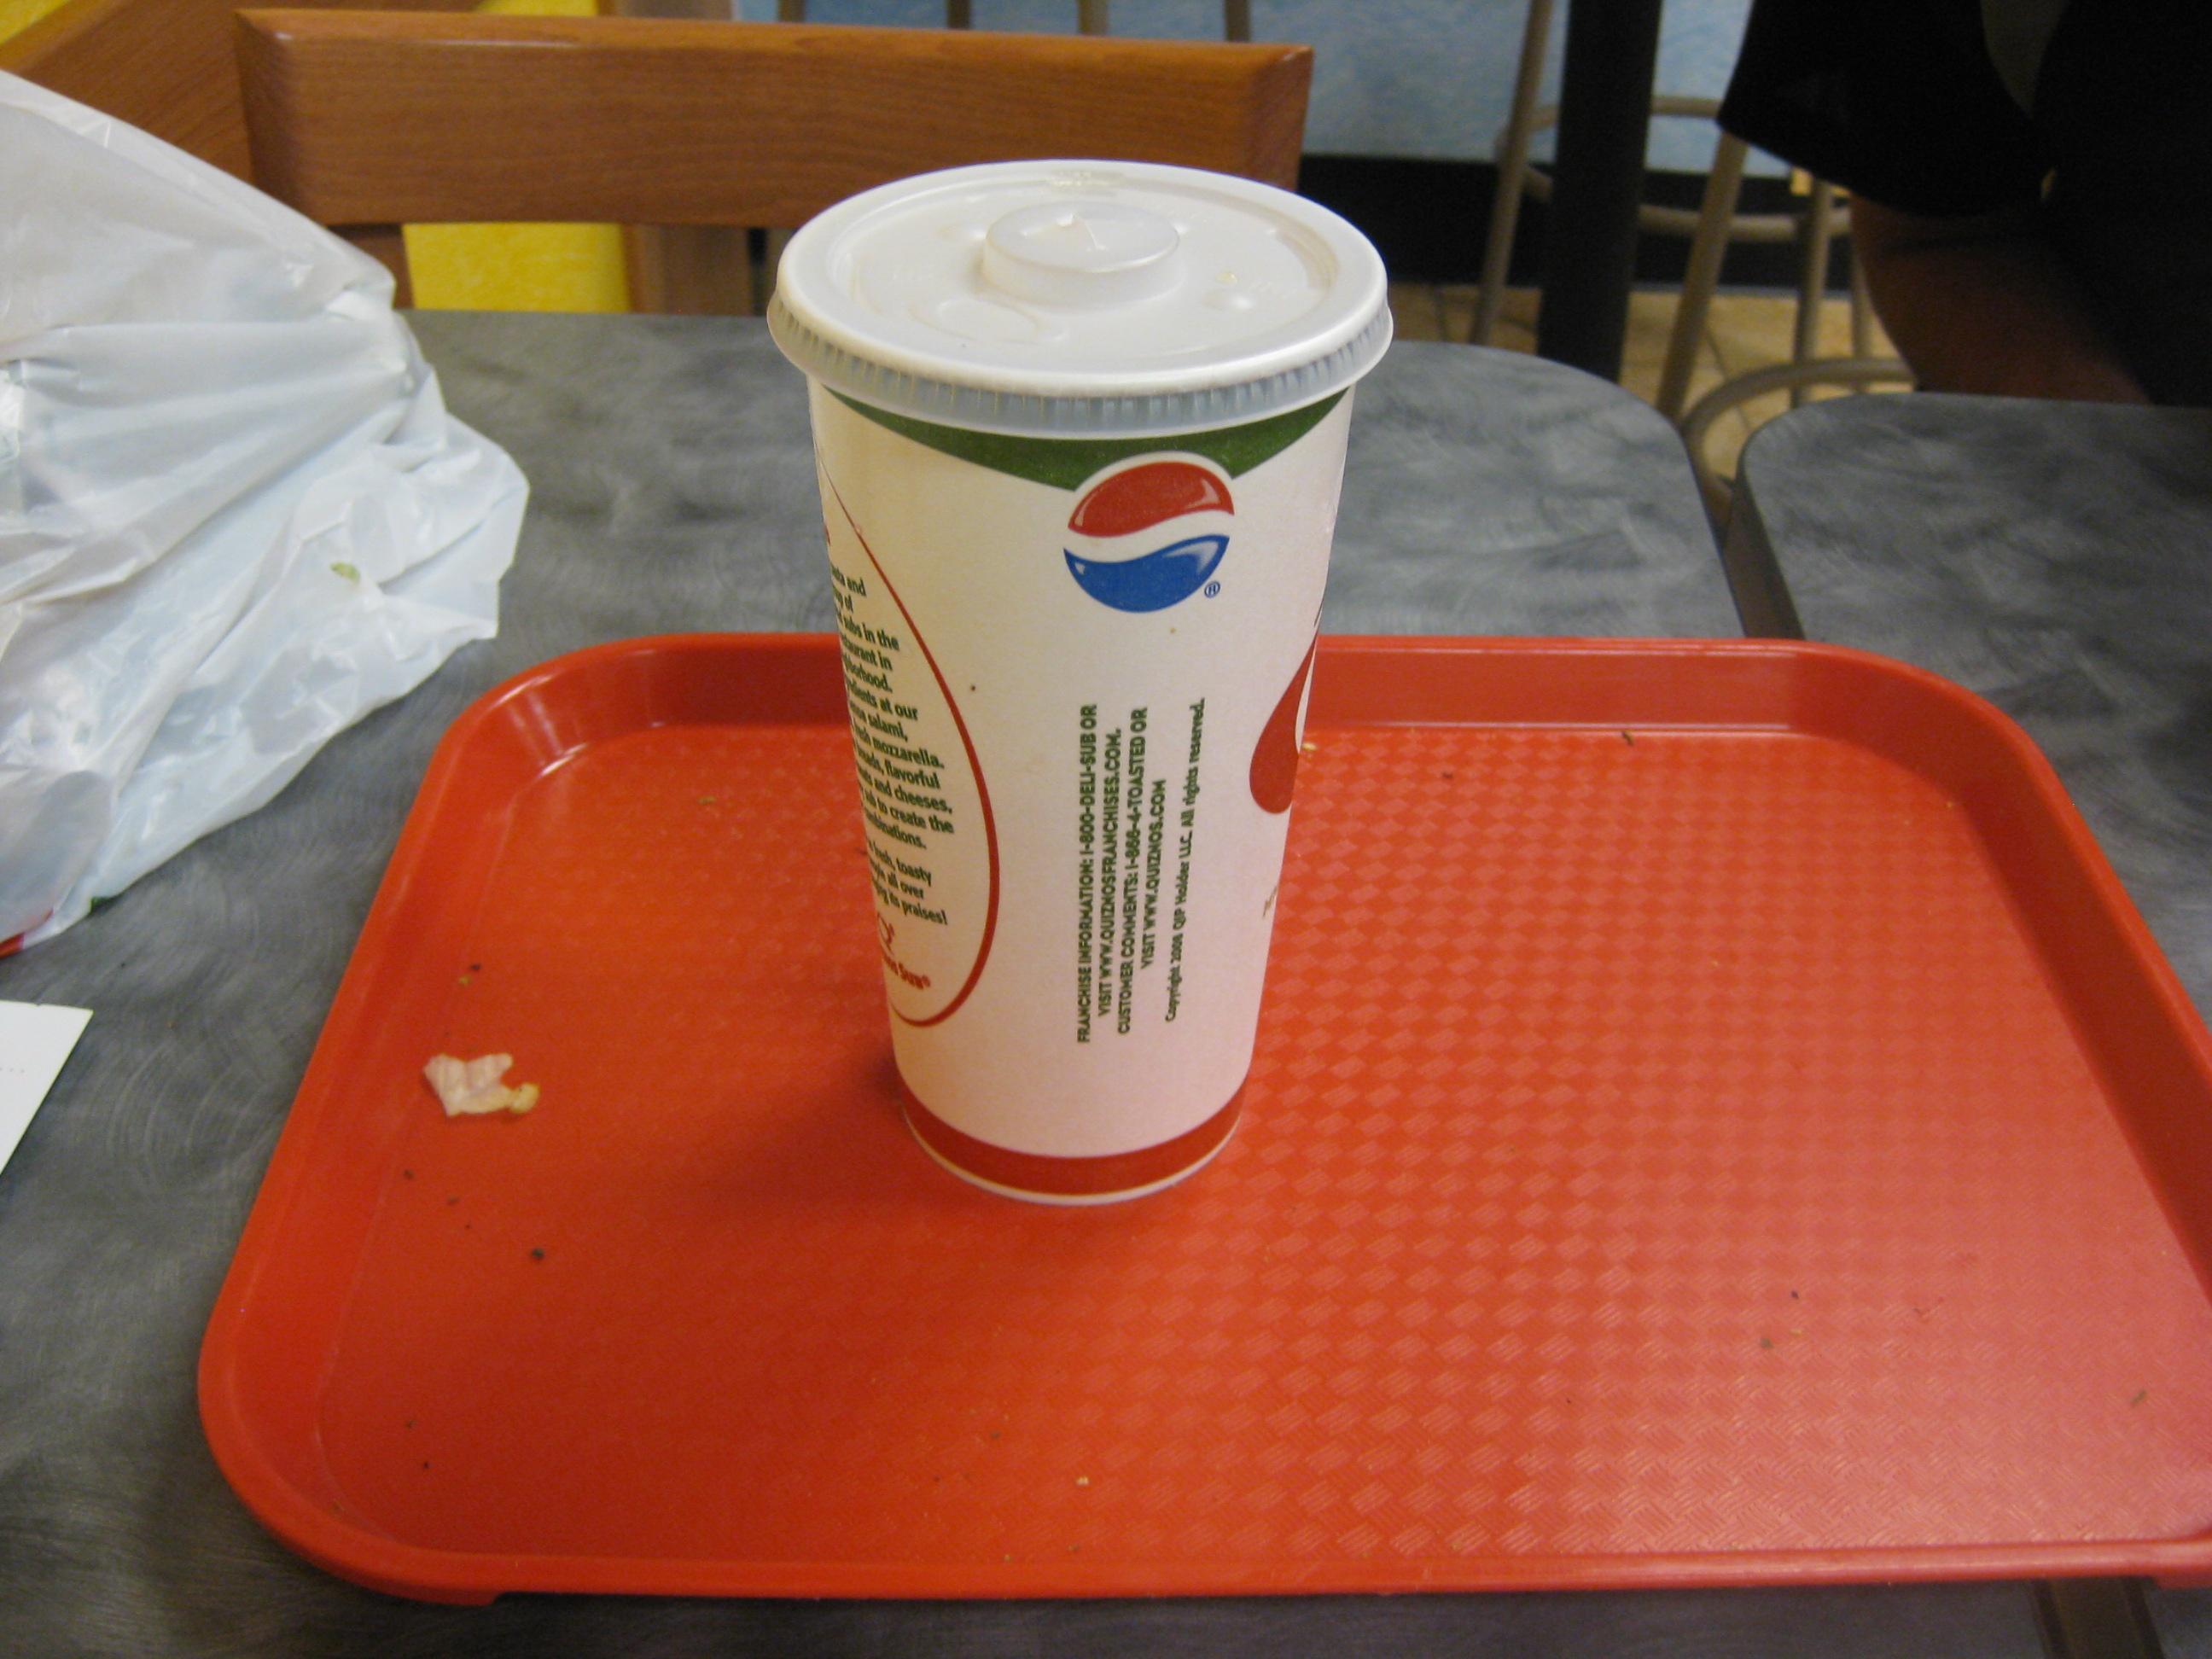drink: (746, 123, 1505, 1207)
